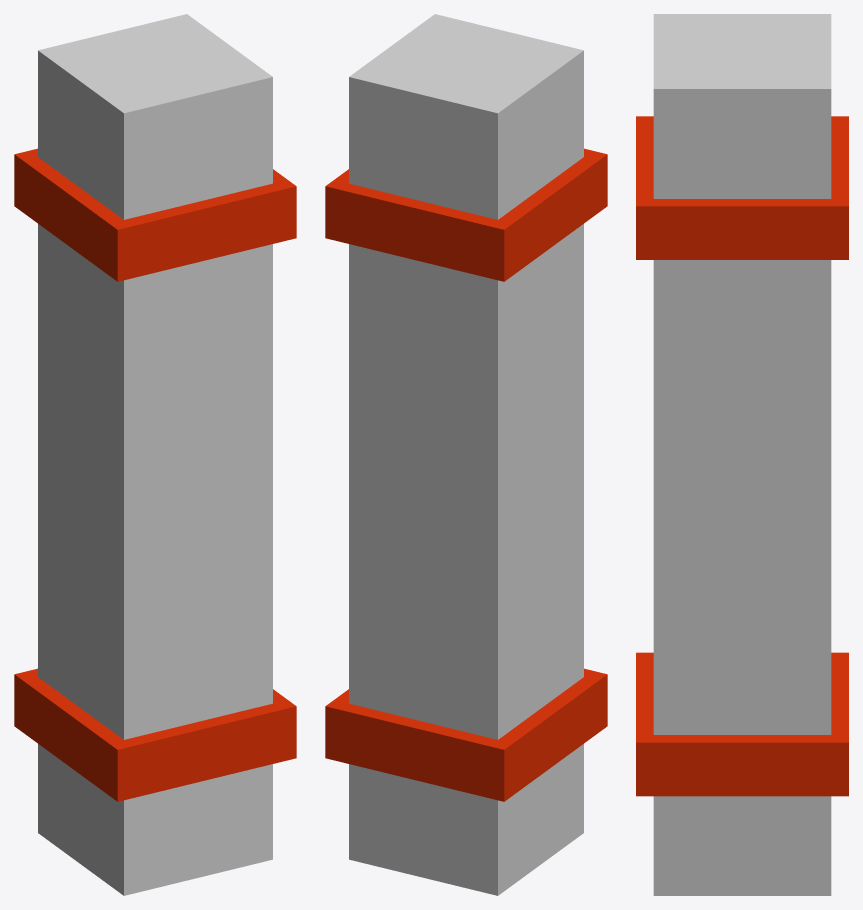
Rendered from Pilar.fbx.
The picture shows the model from 3 angles, left to right: view 1: azimuth 30°, elevation 25°; view 2: azimuth 150°, elevation 25°; view 3: azimuth 270°, elevation 25°; orthographic projection. The views are drawn at different scales.
Parts seen in each view (by area): view 1: Pilar; view 2: Pilar; view 3: Pilar.
Boxes of the visible parts, bbox=[...] form: Pilar: bbox=[14, 14, 296, 895]; Pilar: bbox=[325, 14, 607, 895]; Pilar: bbox=[636, 14, 848, 895].
Size of the model in its own units: 72 by 301 by 72.
